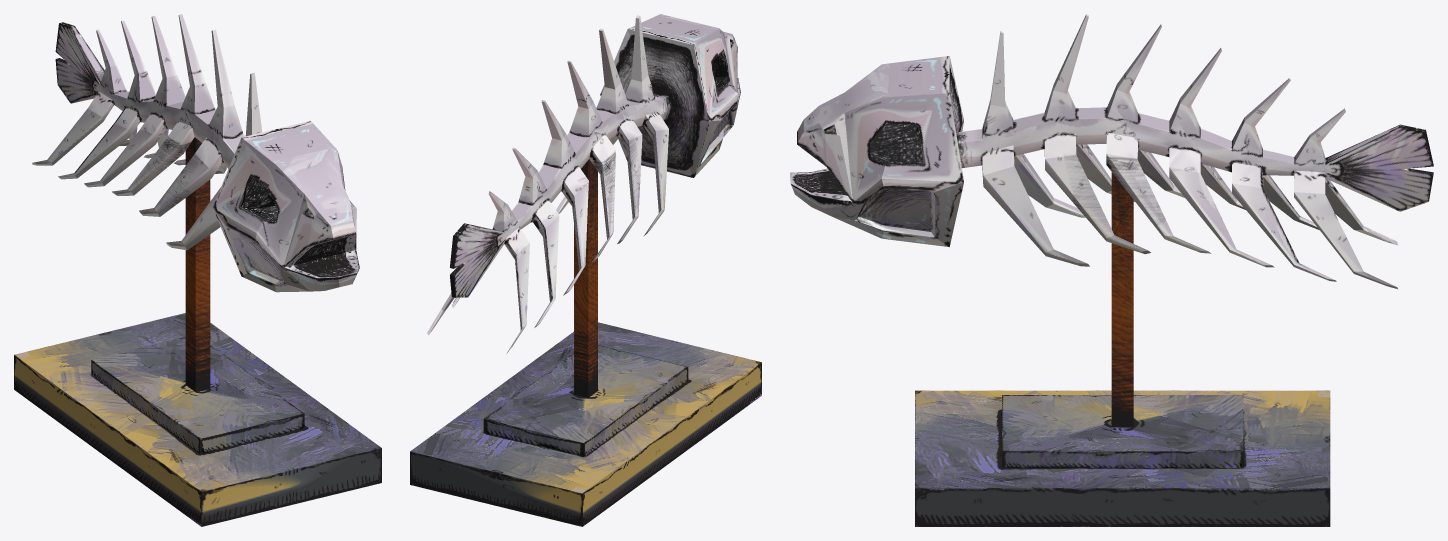
Rendered from Skeleton_Fish.fbx.
3 views of the same model, side by side, from view 1: azimuth 30°, elevation 25°; view 2: azimuth 150°, elevation 25°; view 3: azimuth 270°, elevation 25° (orthographic). The views are drawn at different scales.
Parts seen in each view (by area): view 1: Skeleton_Fish; view 2: Skeleton_Fish; view 3: Skeleton_Fish.
Boxes of the visible parts, x1,y1,x2,y2 form: Skeleton_Fish: [14, 14, 381, 526]; Skeleton_Fish: [410, 14, 761, 526]; Skeleton_Fish: [790, 14, 1433, 526].
Bounding box in the file's own units: 1.78 × 3.94 × 4.96.
1 material, 1 textured.
